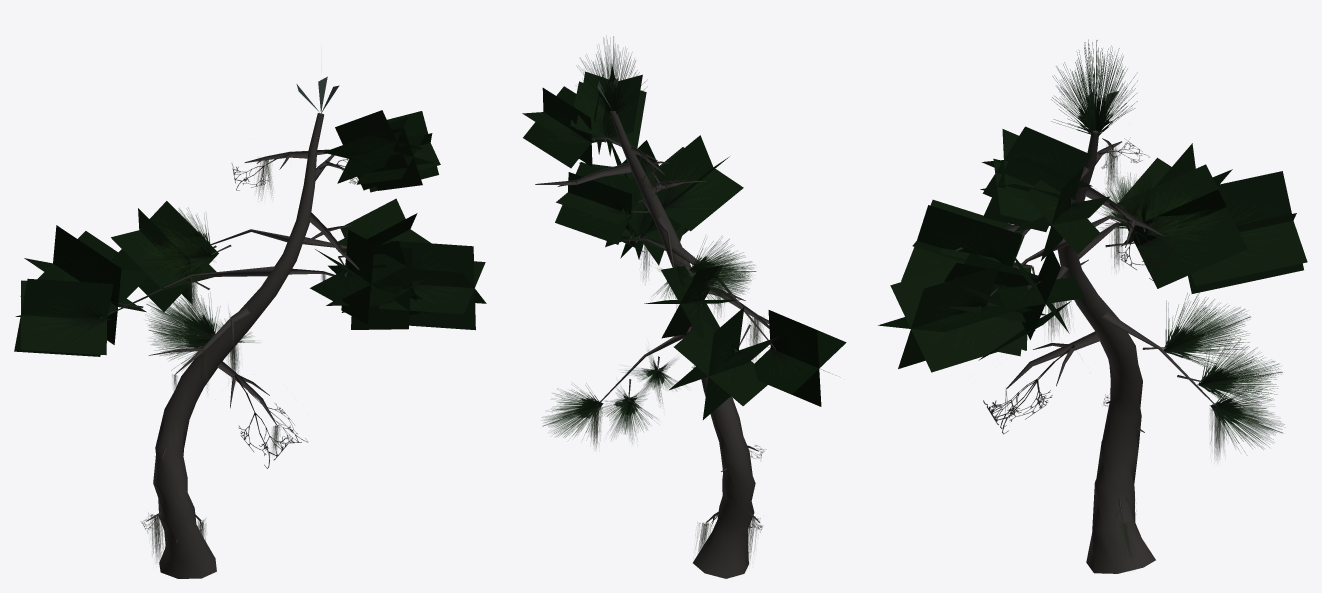
Rendered from Pino_Oscuro_Curvado.glb.
The picture shows the model from 3 angles, left to right: view 1: azimuth 30°, elevation 25°; view 2: azimuth 150°, elevation 25°; view 3: azimuth 270°, elevation 25°; orthographic projection. The views are drawn at different scales.
Parts seen in each view (by area): view 1: Pino_Oscuro_Curvado; view 2: Pino_Oscuro_Curvado; view 3: Pino_Oscuro_Curvado.
Boxes of the visible parts, bbox=[...] form: Pino_Oscuro_Curvado: bbox=[14, 76, 486, 578]; Pino_Oscuro_Curvado: bbox=[522, 36, 846, 578]; Pino_Oscuro_Curvado: bbox=[878, 39, 1307, 573].
Size of the model in its own units: 8.81 by 11.58 by 7.58.
8 materials, 5 textured.
